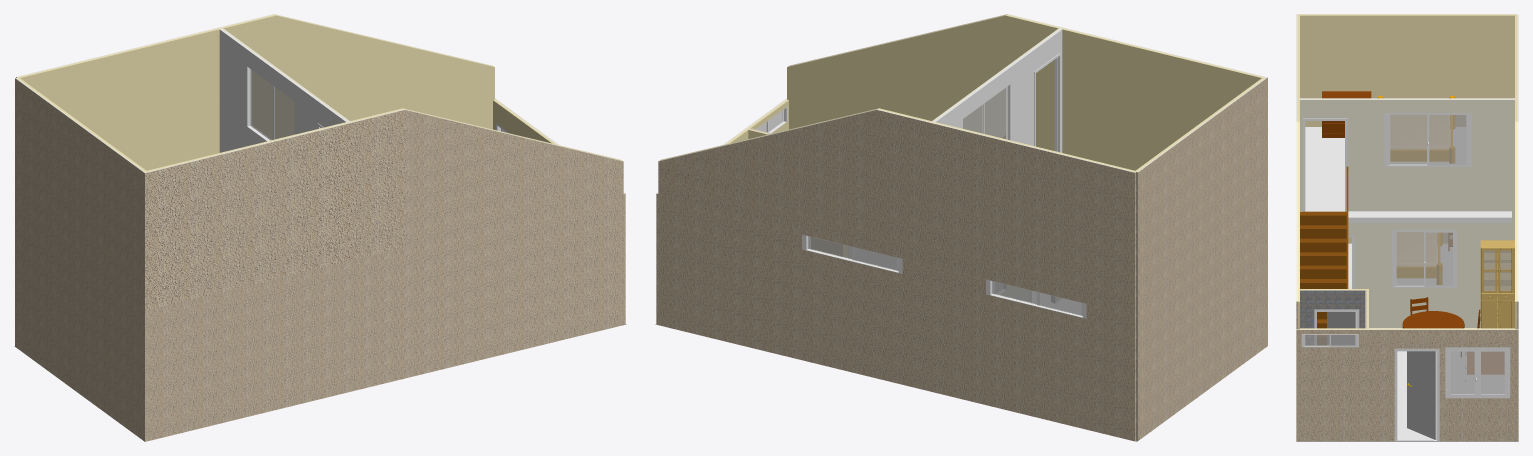
File: modelo1.glb
3 renders of one model, left to right at view 1: azimuth 30°, elevation 25°; view 2: azimuth 150°, elevation 25°; view 3: azimuth 270°, elevation 25°, orthographic. The views are drawn at different scales.
Visible parts, largest first — view 1: wall_14_82, wall_7_40, wall_15_89, wall_8_46, wall_3_16, wall_5_29, wall_11_65, wall_9_52, wall_6_35, wall_10_59, sweethome3d_window_pane_on_rail_1_415, wall_1_5 (+3 smaller); view 2: wall_1_4, wall_5_28, wall_11_64, wall_8_46, wall_3_16, wall_7_41, wall_15_88, wall_10_58, wall_6_35, wall_9_53, sweethome3d_window_pane_on_rail_2_417, wall_14_83 (+1 smaller); view 3: wall_8_47, wall_2_10, wall_6_34, wall_4_22, room_19_96, sweethome3d_opening_on_hinge_1_door_365, Matelas_328, sweethome3d_window_pane_on_rail_1_415, sweethome3d_window_pane_on_rail_2_417, wall_13_76, room_17_94, sweethome3d_window_pane_on_rail_1_407 (+54 smaller).
Part boxes in pixels (x1,y1,x2,y2): wall_14_82: (145,193,625,441); wall_7_40: (145,123,352,310); wall_15_89: (405,110,623,247); wall_8_46: (15,78,144,310); wall_3_16: (15,216,144,441); wall_5_29: (20,29,219,170); wall_11_65: (276,15,494,138); wall_9_52: (352,110,404,259); wall_6_35: (219,30,345,152); wall_10_59: (223,15,276,139); sweethome3d_window_pane_on_rail_1_415: (252,70,272,139); wall_1_5: (432,100,492,129); wall_1_4: (656,193,1135,441); wall_5_28: (929,123,1135,310); wall_11_64: (658,110,876,247); wall_8_46: (1136,77,1267,309); wall_3_16: (1136,215,1267,440); wall_7_41: (1062,29,1261,170); wall_15_88: (787,15,1005,137); wall_10_58: (877,110,931,260); wall_6_35: (936,30,1062,152); wall_9_53: (1005,15,1058,150); sweethome3d_window_pane_on_rail_2_417: (984,88,1006,138); wall_14_83: (789,100,849,129); wall_8_47: (1300,15,1514,126); wall_2_10: (1296,330,1518,441); wall_6_34: (1300,100,1514,216); wall_4_22: (1348,216,1514,327); room_19_96: (1300,127,1511,222); sweethome3d_opening_on_hinge_1_door_365: (1407,351,1436,439); Matelas_328: (1390,115,1449,149); sweethome3d_window_pane_on_rail_1_415: (1429,115,1466,164); sweethome3d_window_pane_on_rail_2_417: (1390,114,1426,163); wall_13_76: (1300,290,1365,344); room_17_94: (1369,328,1480,440); sweethome3d_window_pane_on_rail_1_407: (1425,232,1452,285).
Bounding box in the file's own units: 961 × 512 × 453.
Materials: 57 (4 with a texture image).
